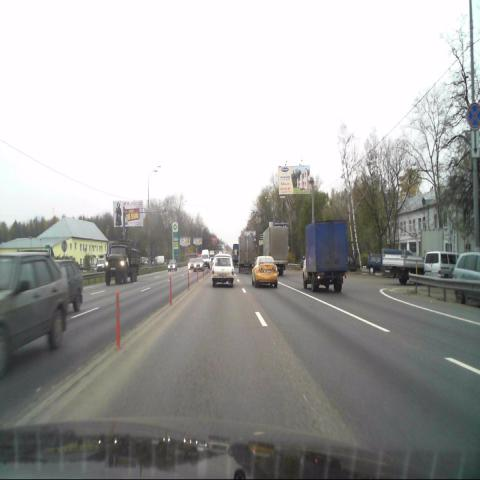8_2_3: (471, 131, 479, 158)
